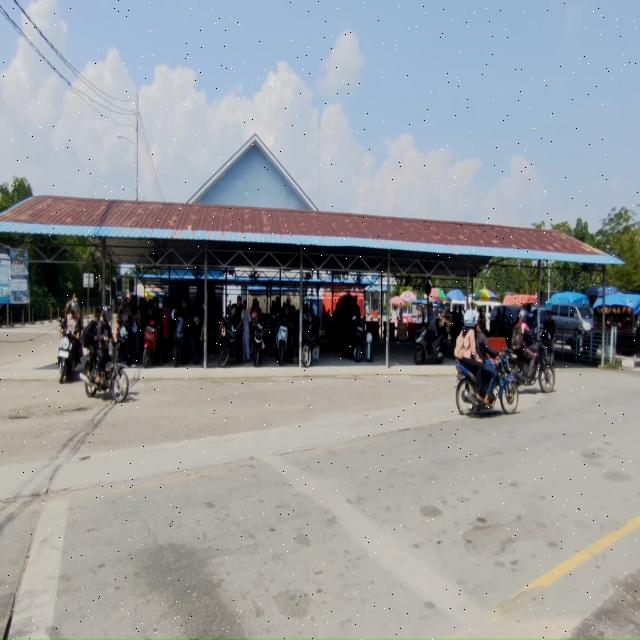Golongan II: (455, 350, 519, 416), (80, 342, 129, 403), (507, 341, 556, 393), (58, 320, 82, 384), (414, 320, 448, 365), (343, 314, 366, 362), (173, 317, 193, 367), (58, 331, 75, 384), (218, 320, 236, 368), (142, 320, 159, 368), (302, 318, 318, 368), (252, 321, 268, 366), (275, 322, 290, 366), (115, 320, 130, 363), (540, 329, 555, 365)
